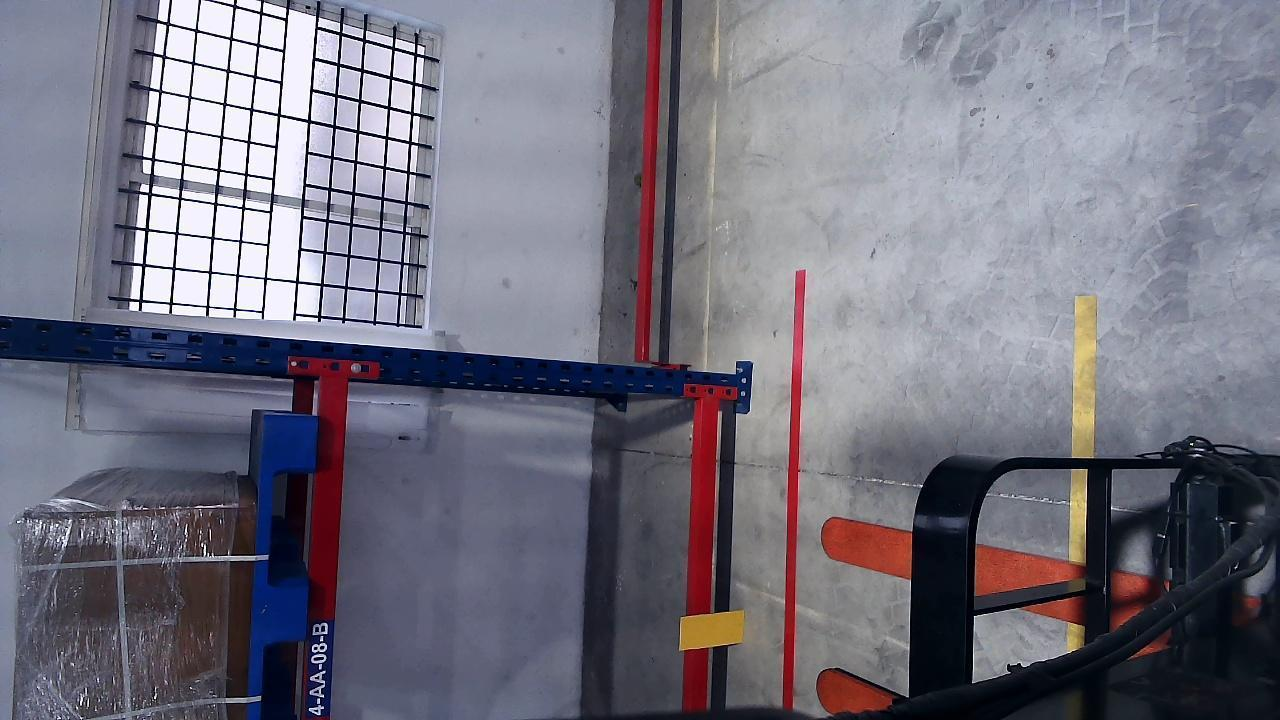red_line: (781, 270, 817, 712)
yellow_line: (1071, 295, 1099, 457)
